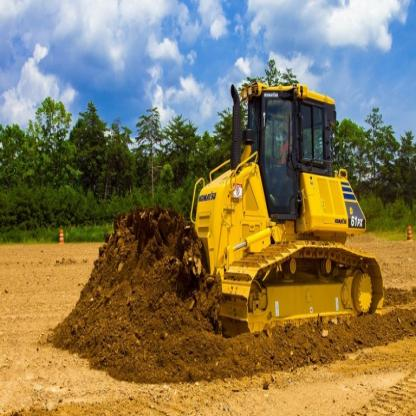bull_dozer/loader/grader: (147, 57, 403, 337)
